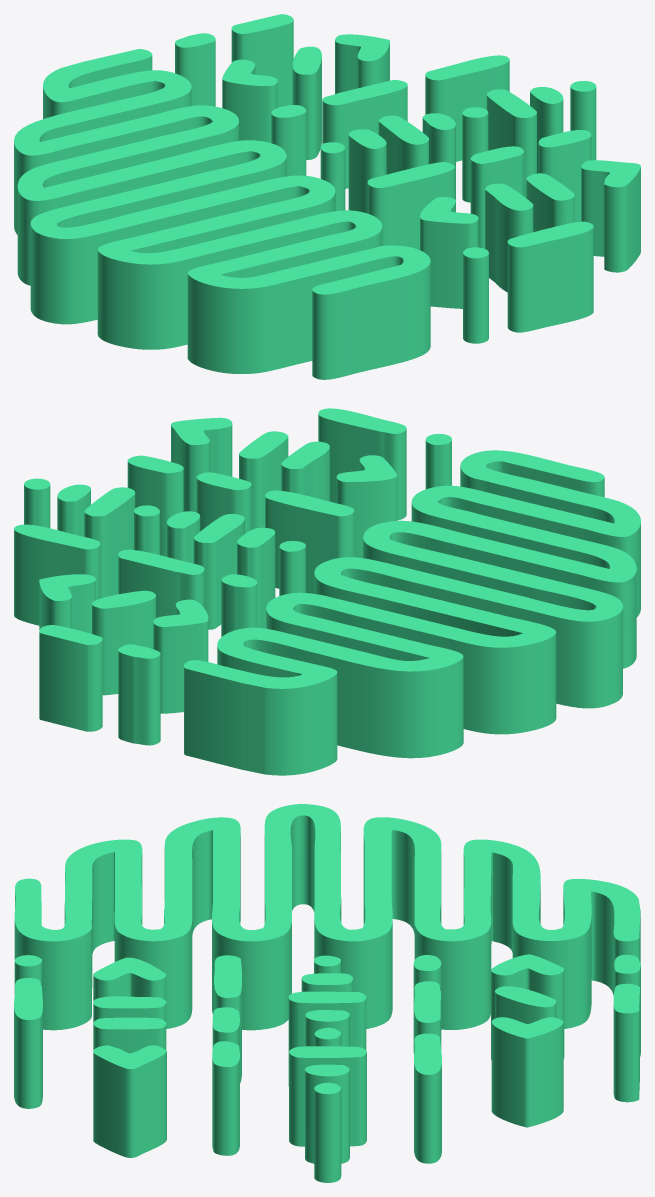
File: byte.glb
3 renders of one model, top to bottom at view 1: azimuth 30°, elevation 25°; view 2: azimuth 150°, elevation 25°; view 3: azimuth 270°, elevation 25°, orthographic. The views are drawn at different scales.
Parts seen in each view (by area): view 1: Color_Fill_1.001; view 2: Color_Fill_1.001; view 3: Color_Fill_1.001.
Boxes of the visible parts, box(x1,y1,x2,y2) form: Color_Fill_1.001: box(14, 14, 640, 379); Color_Fill_1.001: box(14, 408, 640, 775); Color_Fill_1.001: box(14, 804, 640, 1182).
Bounding box in the file's own units: 1.86 × 0.2648 × 1.69.
